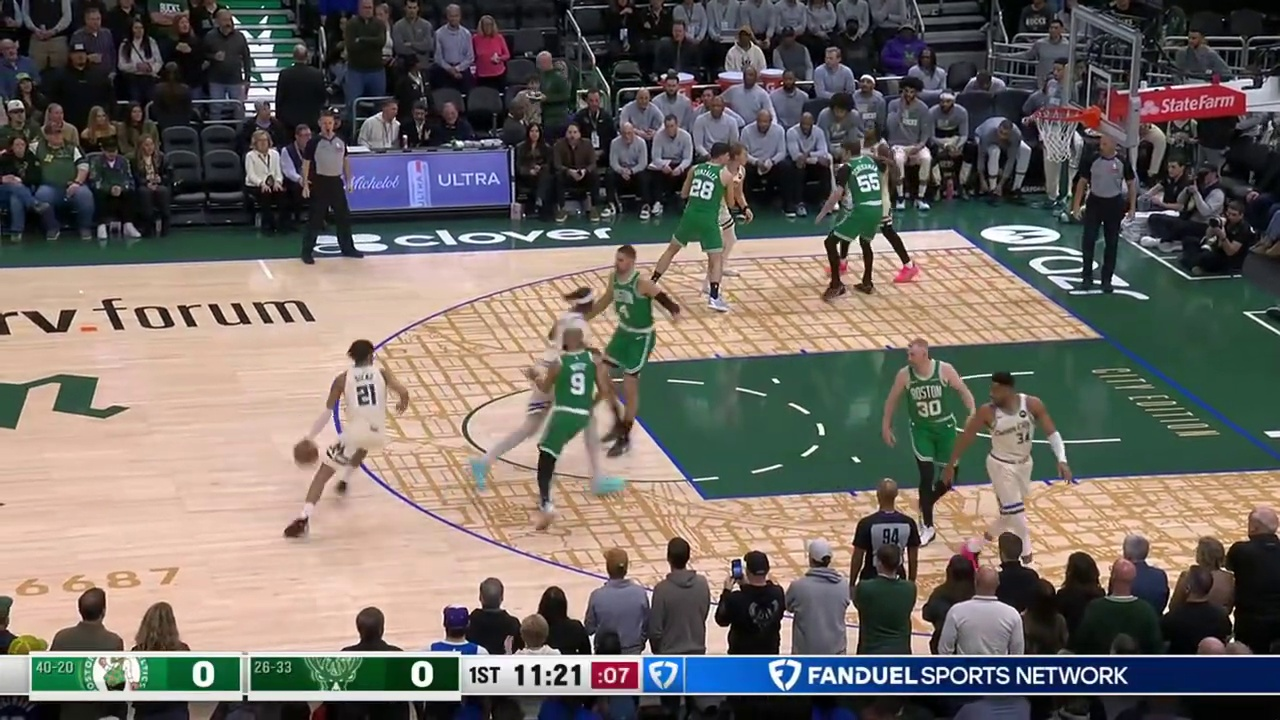21_OusmaneDieng: (306, 321, 416, 507)
28_HugoGonzalez: (678, 129, 743, 265)
30_SamHauser: (880, 332, 962, 512)
34_GiannisAntetokounmpo: (971, 367, 1069, 541)
4_NikolaVucecic: (591, 238, 668, 318)
55_BaylorScheierman: (818, 132, 894, 293)
9_DerrickWhite: (524, 320, 611, 522)
